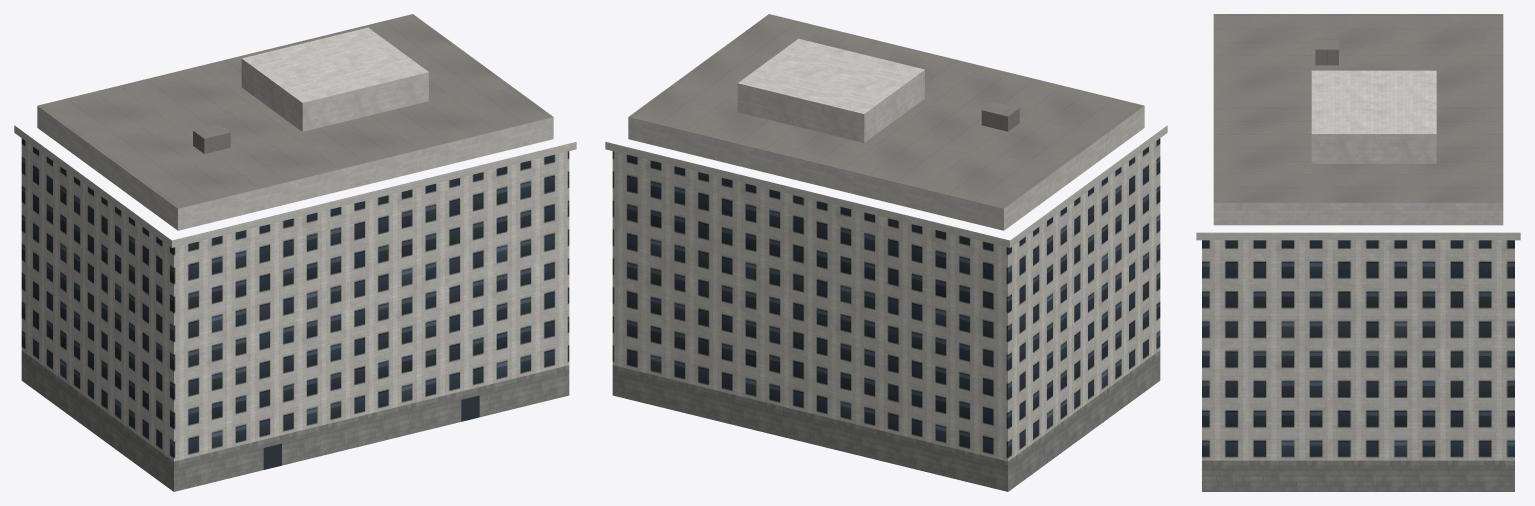
Rendered from dc_fed_white.glb.
3 renders of one model, left to right at view 1: azimuth 30°, elevation 25°; view 2: azimuth 150°, elevation 25°; view 3: azimuth 270°, elevation 25°, orthographic. The views are drawn at different scales.
Visible parts, largest first — view 1: dc_fed_white; view 2: dc_fed_white; view 3: dc_fed_white.
Boxes of the visible parts, <box> form: dc_fed_white: <box>14,14,576,491</box>; dc_fed_white: <box>605,14,1167,491</box>; dc_fed_white: <box>1196,14,1520,491</box>.
Bounding box in the file's own units: 61.4 × 44.3 × 41.4.
Materials: 5 (5 with a texture image).
